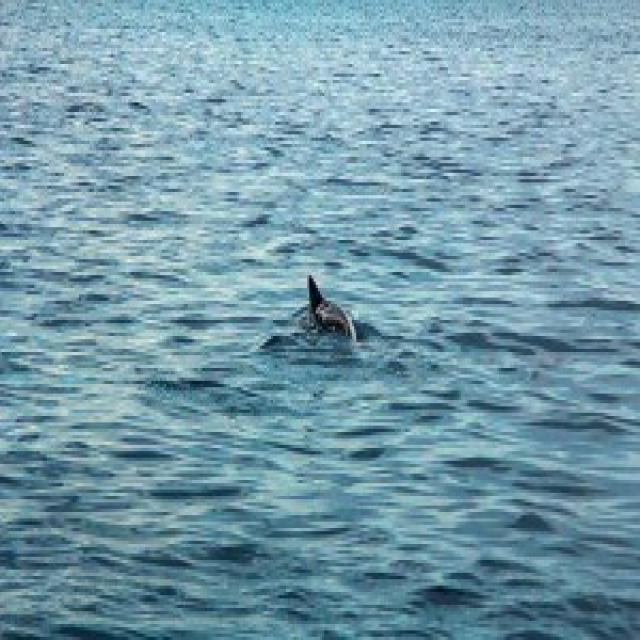Dolphin: (288, 277, 364, 364)
